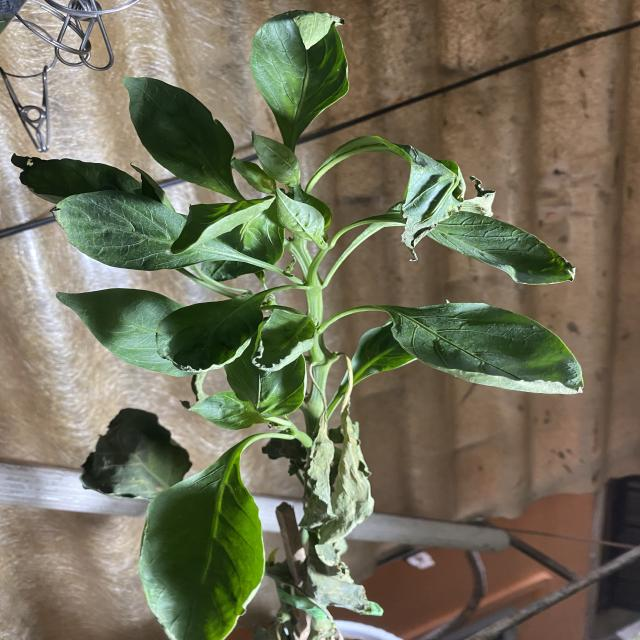Leaf: (139, 470, 263, 640), (389, 299, 586, 396), (53, 185, 240, 272), (248, 10, 350, 138), (121, 73, 235, 187), (153, 295, 266, 372)
